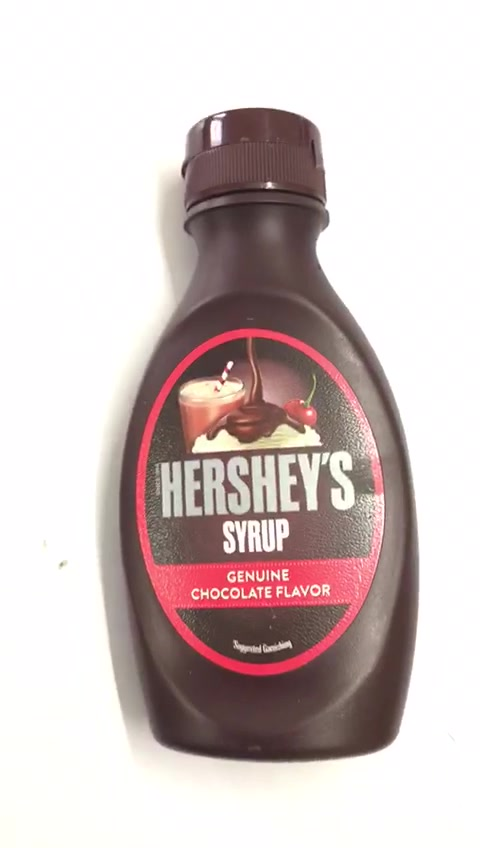hershey: (118, 110, 421, 765)
